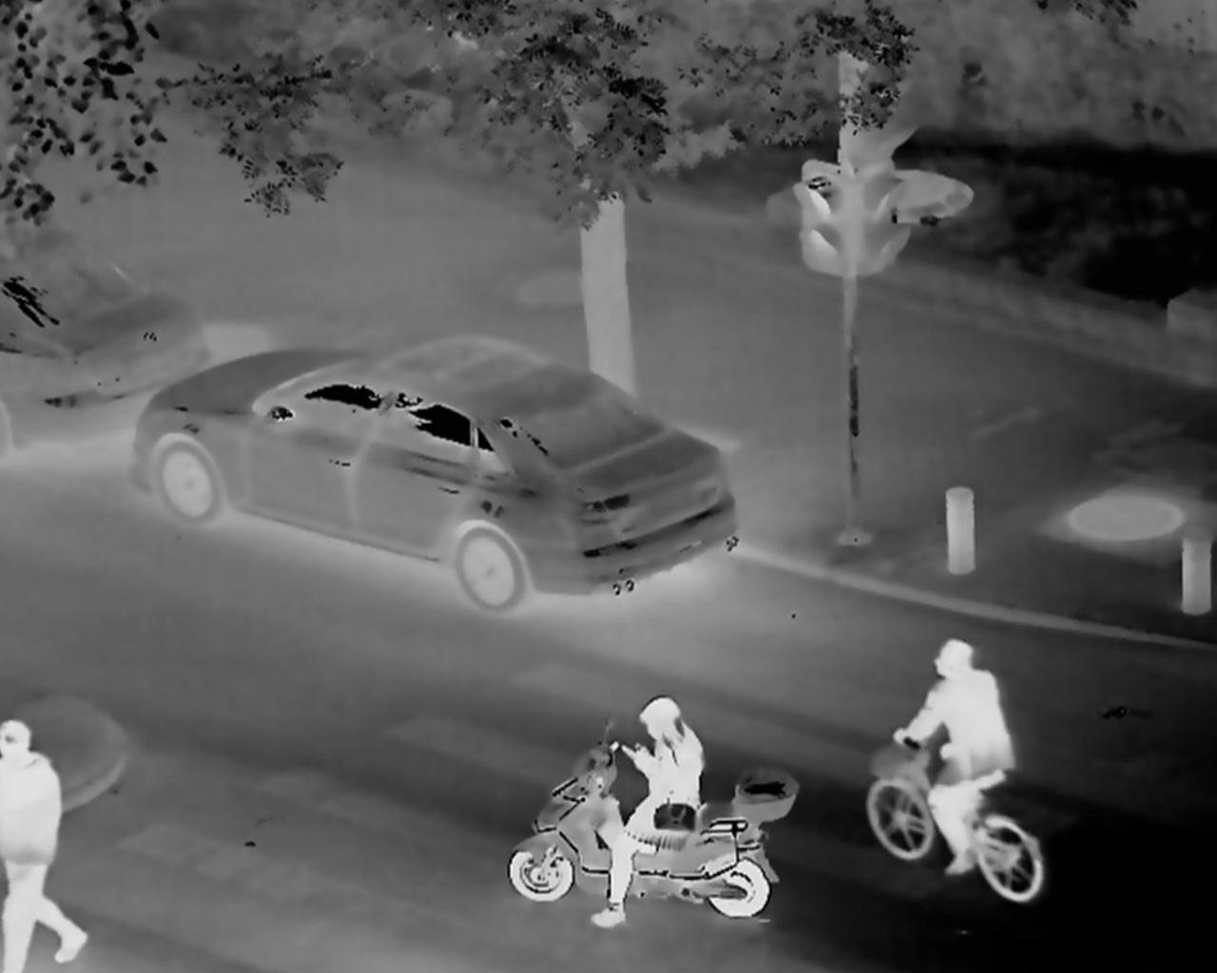person: (886, 634, 1015, 888), (581, 688, 708, 927)
